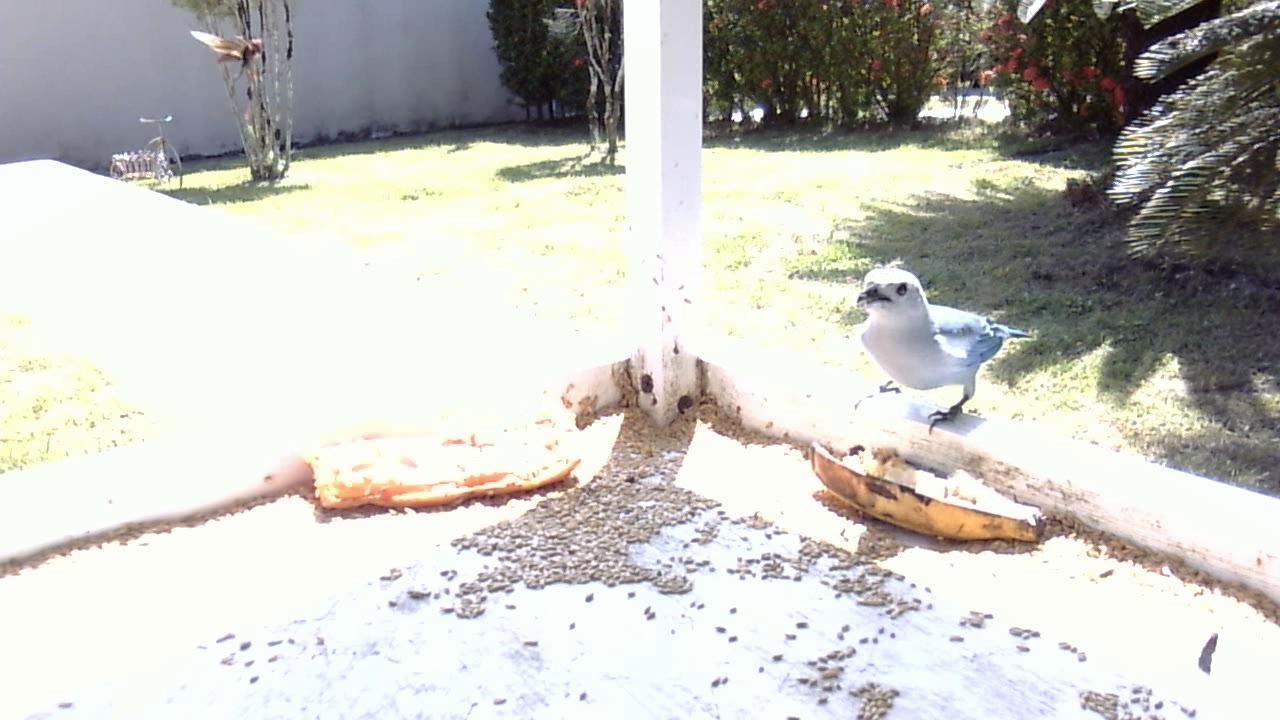sanhaco_da_amazonia: (848, 258, 1035, 442)
